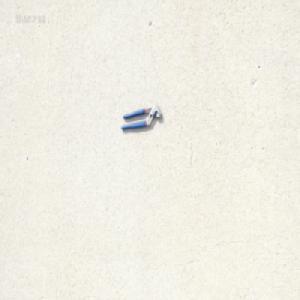Pliers: (120, 103, 163, 130)
